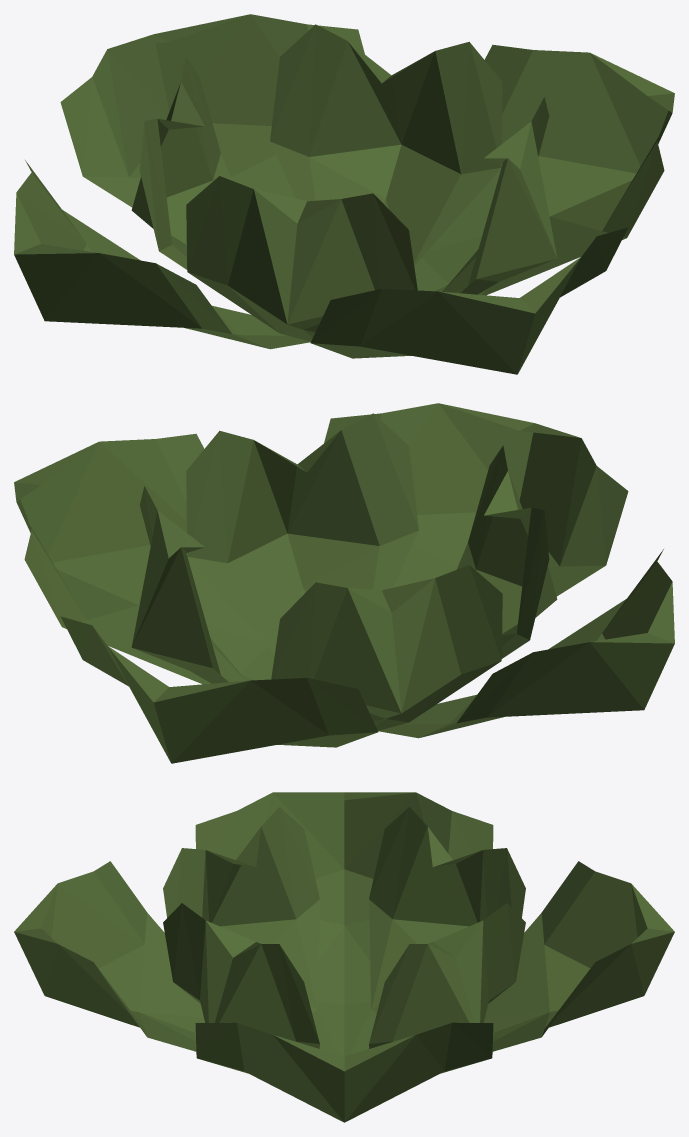
The model's file is stage_1.fbx.
3 renders of one model, top to bottom at view 1: azimuth 30°, elevation 25°; view 2: azimuth 150°, elevation 25°; view 3: azimuth 270°, elevation 25°, orthographic. The views are drawn at different scales.
Visible parts, largest first — view 1: stage_1; view 2: stage_1; view 3: stage_1.
Part boxes in pixels (x1,y1,x2,y2): stage_1: (14,14,674,374); stage_1: (14,403,674,763); stage_1: (14,792,674,1122).
Size of the model in its own units: 166 by 54.51 by 166.
